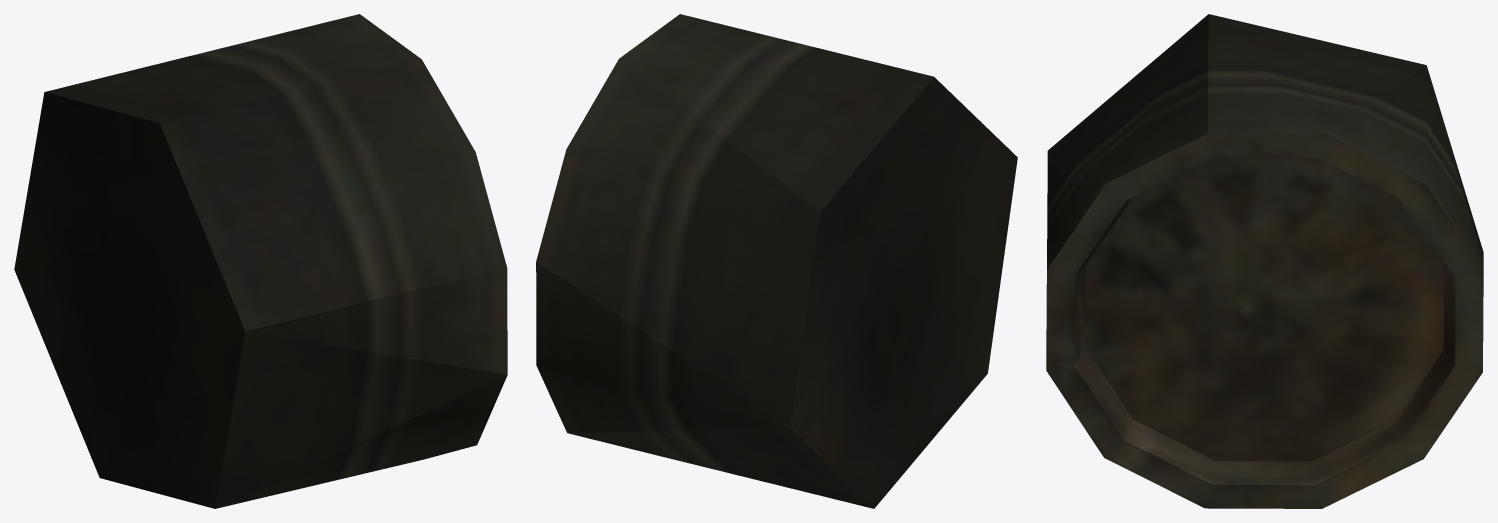
Rendered from Wheel.fbx.
3 renders of one model, left to right at view 1: azimuth 30°, elevation 25°; view 2: azimuth 150°, elevation 25°; view 3: azimuth 270°, elevation 25°, orthographic. The views are drawn at different scales.
Parts seen in each view (by area): view 1: Wheel; view 2: Wheel; view 3: Wheel.
Part boxes in pixels (x1,y1,x2,y2): Wheel: (14, 14, 507, 508); Wheel: (536, 14, 1017, 508); Wheel: (1046, 14, 1483, 508).
Bounding box in the file's own units: 0.45 × 0.6545 × 0.6914.
